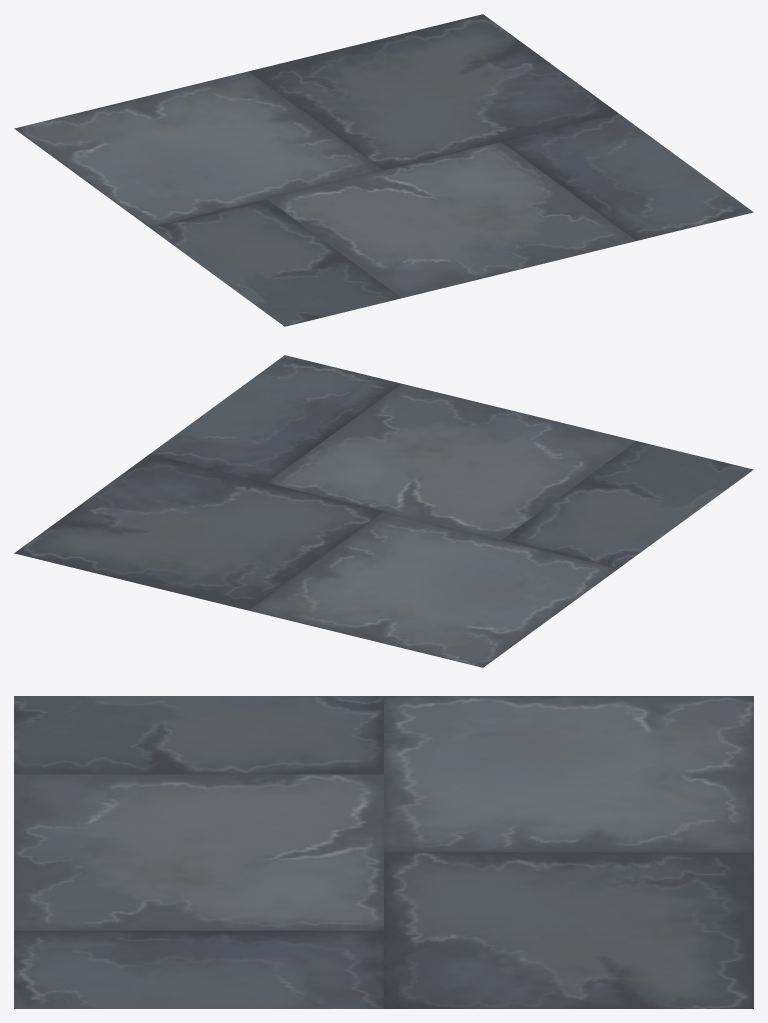
File: Castle Ground X Mix 2x2.fbx
3 views of the same model, one above another, from view 1: azimuth 30°, elevation 25°; view 2: azimuth 150°, elevation 25°; view 3: azimuth 270°, elevation 25° (orthographic). The views are drawn at different scales.
Parts seen in each view (by area): view 1: Castle Ground X Mix 2x2; view 2: Castle Ground X Mix 2x2; view 3: Castle Ground X Mix 2x2.
Boxes of the visible parts, bbox=[...] form: Castle Ground X Mix 2x2: bbox=[14, 14, 753, 326]; Castle Ground X Mix 2x2: bbox=[14, 355, 753, 667]; Castle Ground X Mix 2x2: bbox=[14, 696, 753, 1008].
Bounding box in the file's own units: 1.13 × 7.47e-07 × 1.12.
